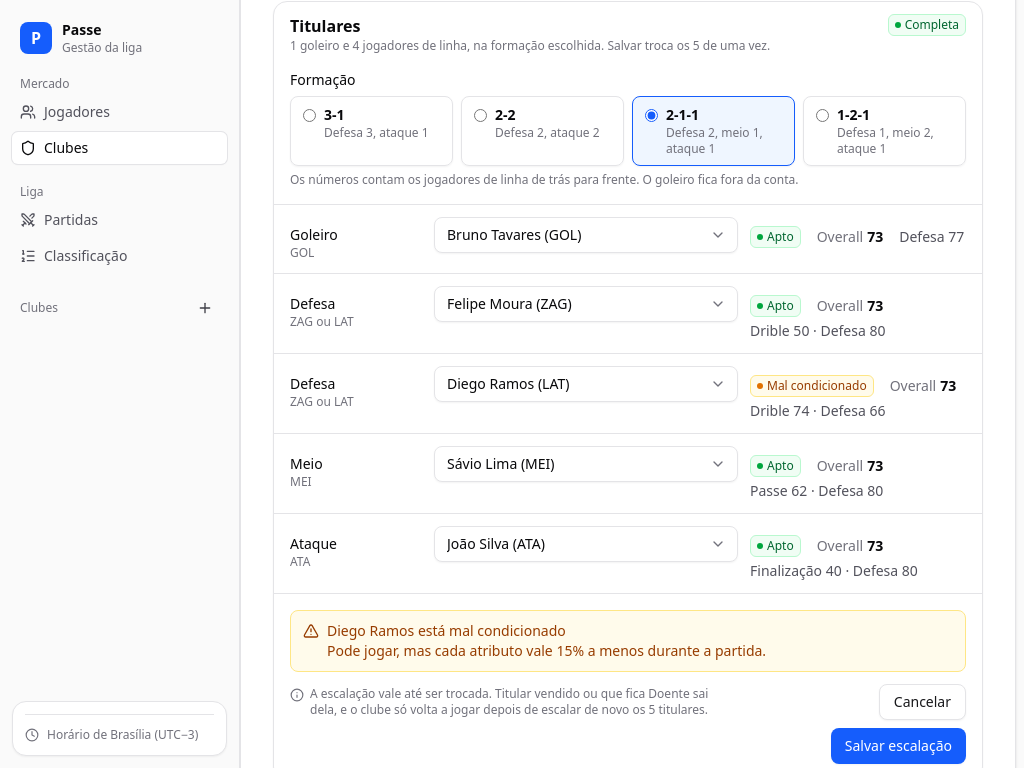
Scenario: Escalação › mostra o message da API e mantém as escolhas quando a escalação é recusada
(page scrolled)
expect the text "Completa" is shown: met, box [888,14,966,36]
Select "Ana Costa (LAT)" in the 2nd dropdown labelled "Defesa" at (586, 384), box [434,366,738,402]
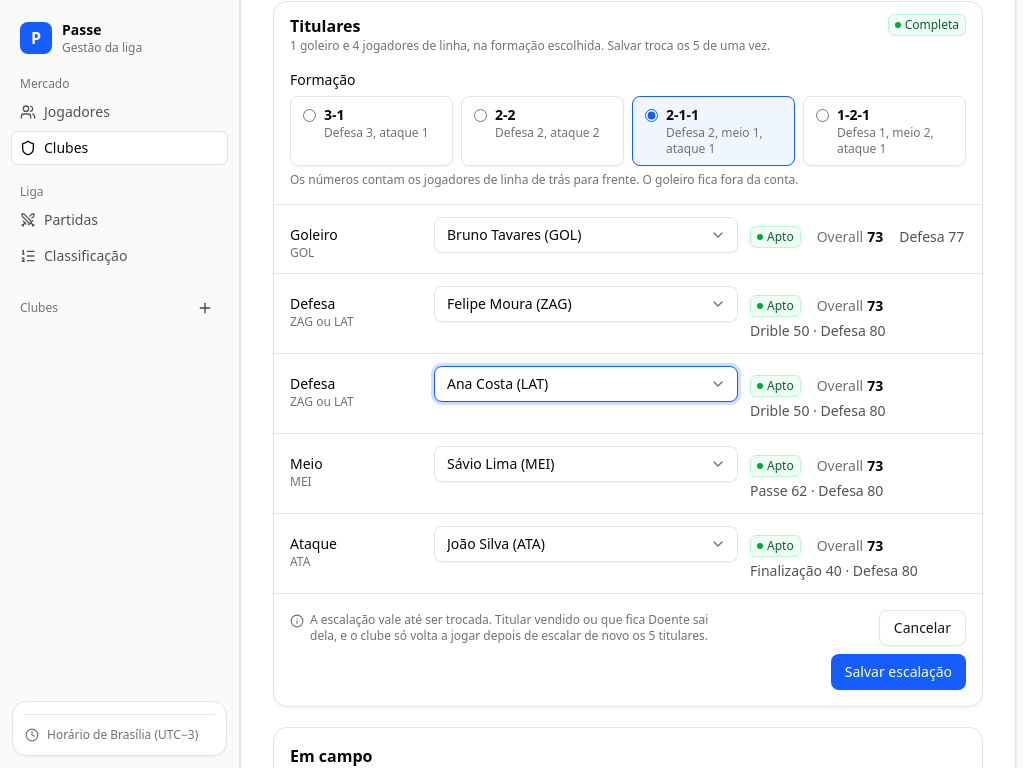
Click the button "Salvar escalação" at (898, 672), box [831,654,966,690]
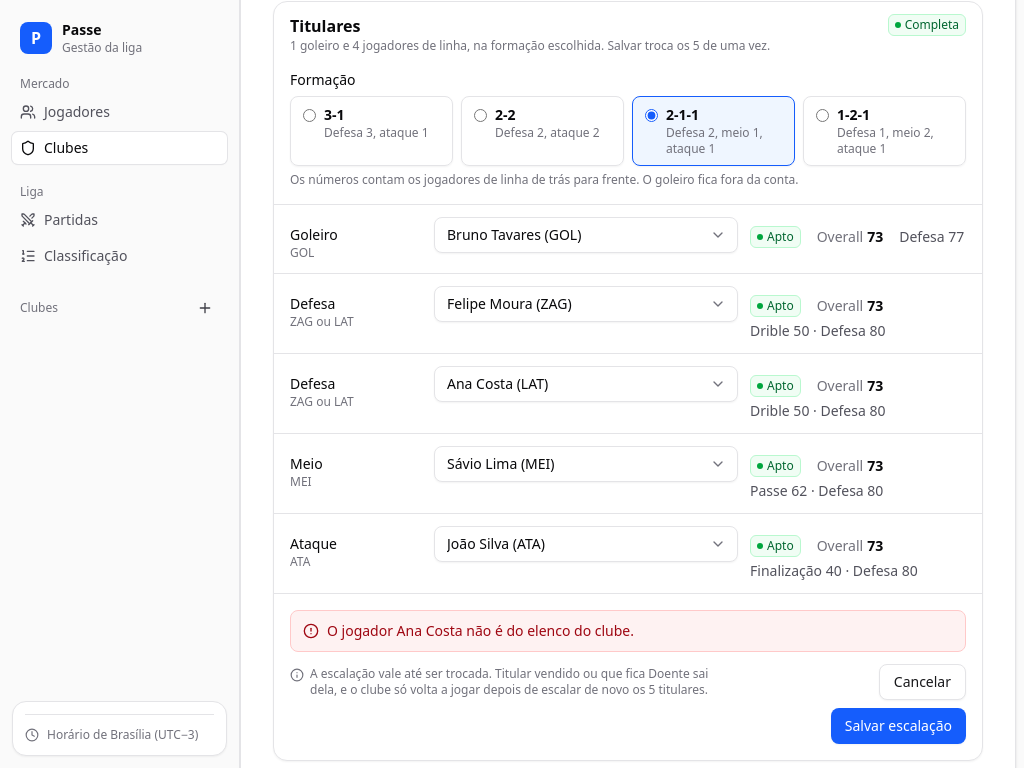
expect the message reads "O jogador Ana Costa não é do elenco do clube.": met, box [327,621,634,640]
